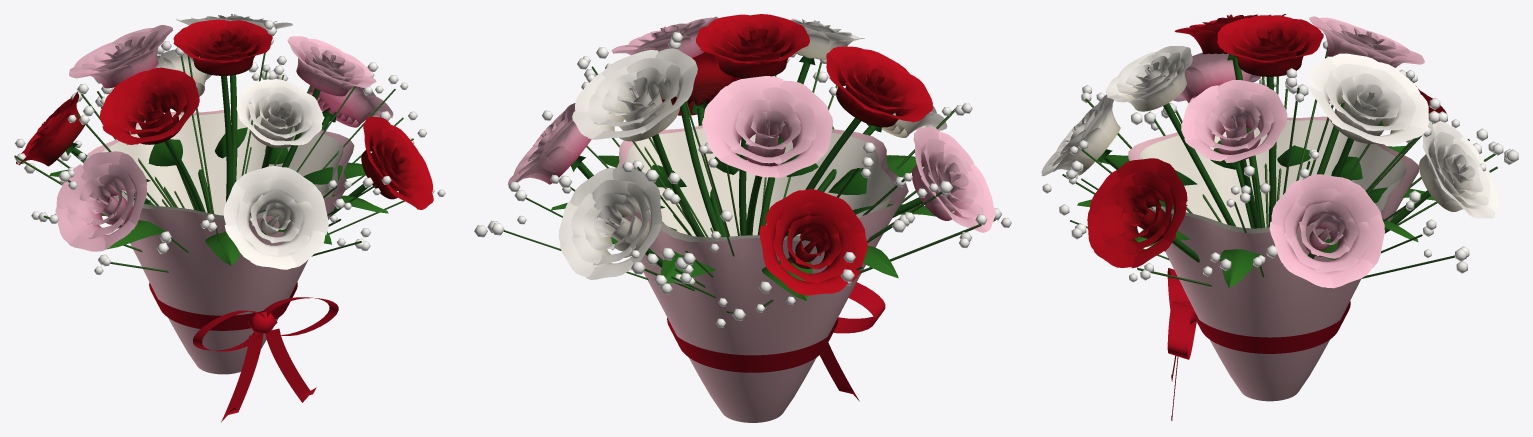
File: bouquet.glb
The picture shows the model from 3 angles, left to right: view 1: azimuth 30°, elevation 25°; view 2: azimuth 150°, elevation 25°; view 3: azimuth 270°, elevation 25°; orthographic projection. The views are drawn at different scales.
Parts seen in each view (by area): view 1: Bouquet; view 2: Bouquet; view 3: Bouquet.
Boxes of the visible parts, x1,y1,x2,y2 form: Bouquet: [14, 14, 445, 422]; Bouquet: [474, 14, 1011, 422]; Bouquet: [1041, 14, 1518, 420].
Size of the model in its own units: 0.5723 by 0.4994 by 0.5792.
